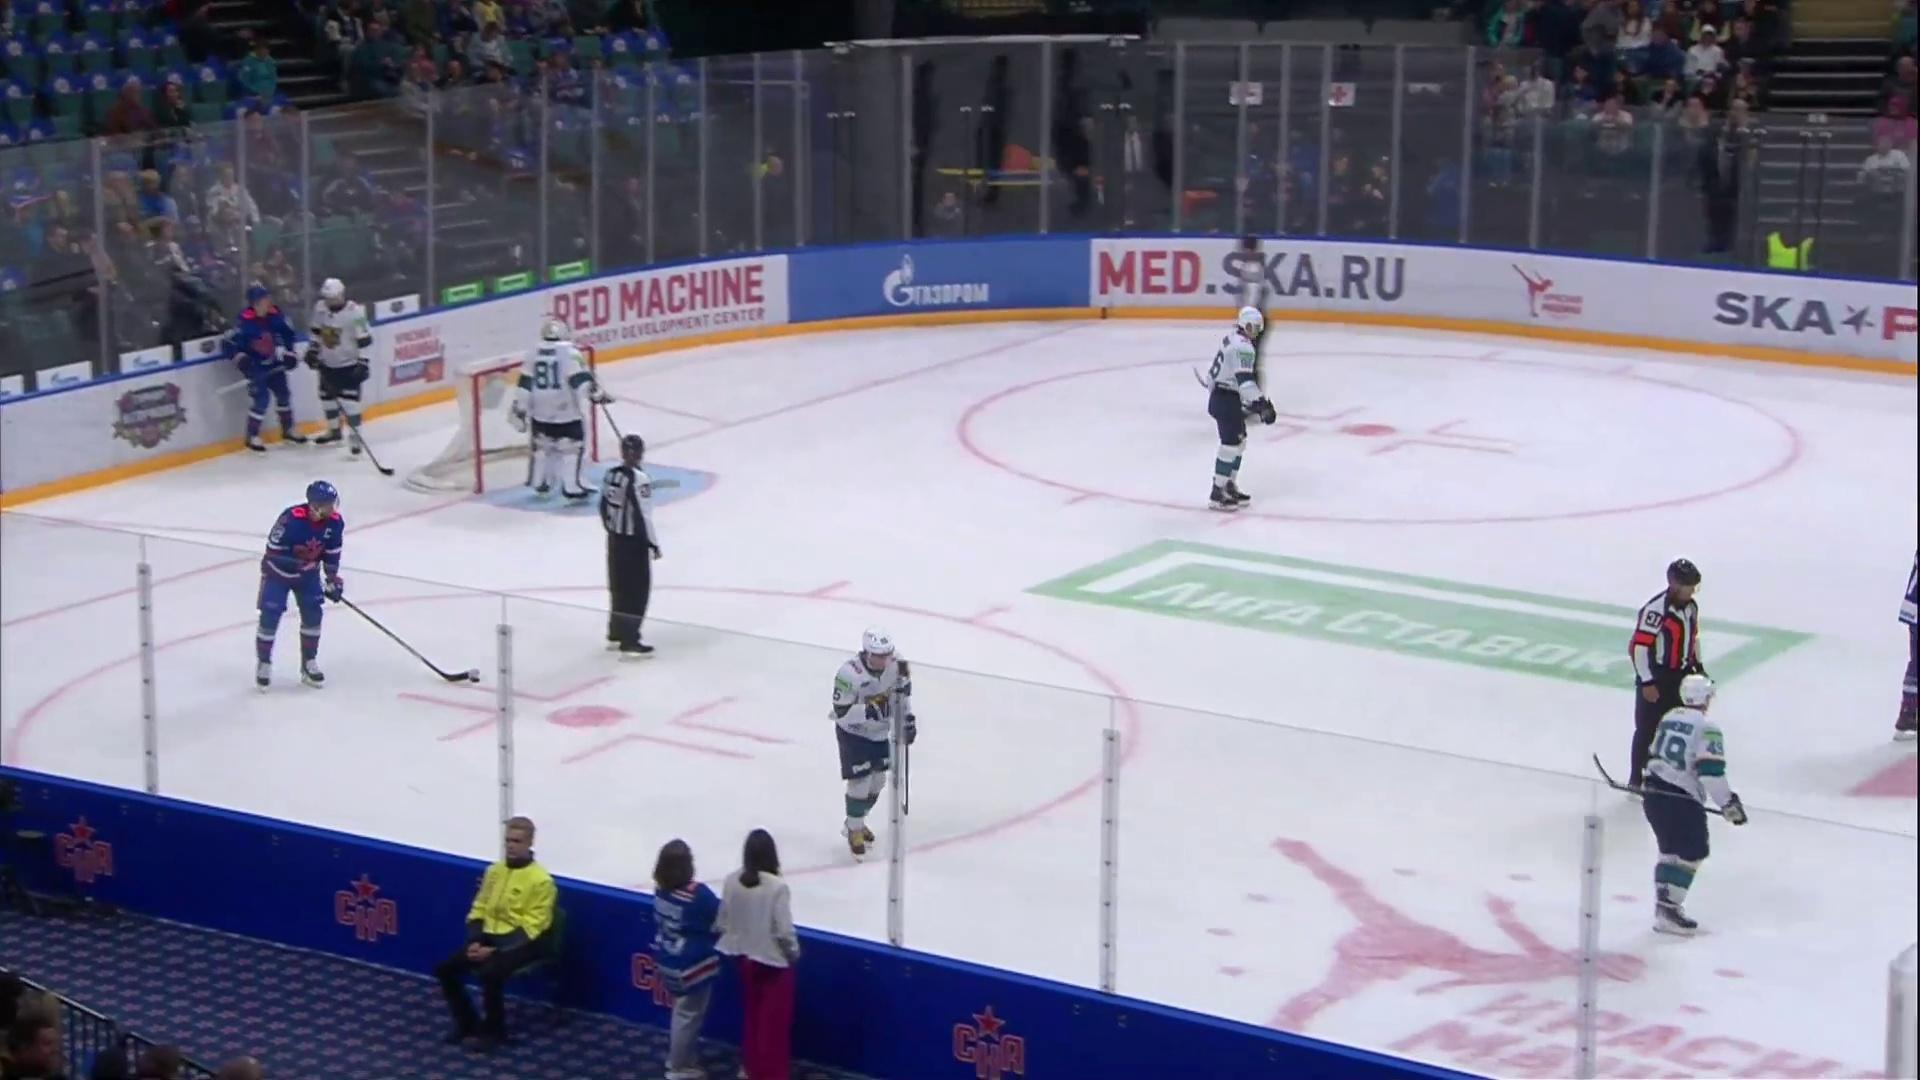ball: (469, 676, 480, 683)
